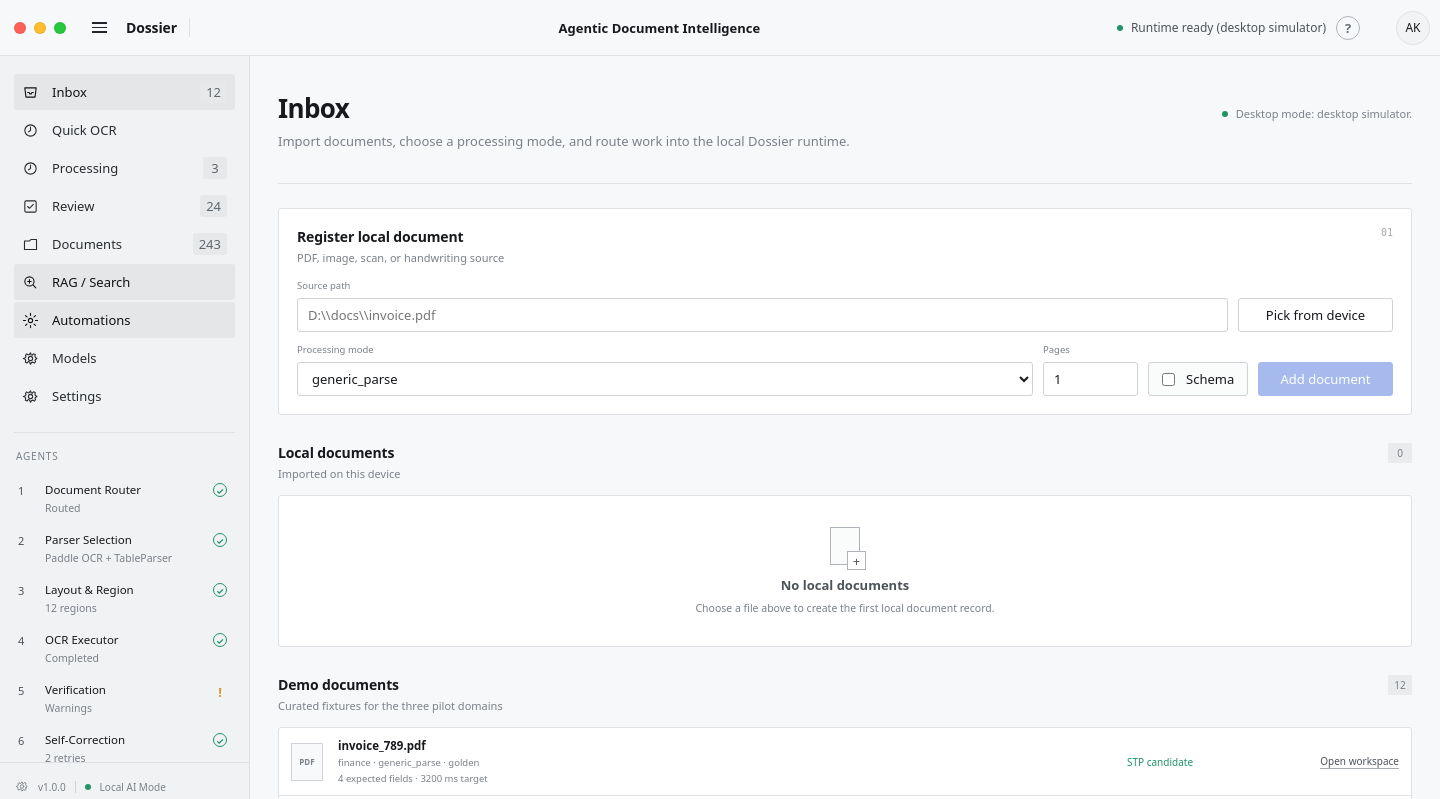
Test case: pilot flows › shows registered local documents in the All Documents browser
Expected: the text "Runtime ready (desktop simulator)" is shown, 1117,19 -> 1336,36
Type "D:\\docs\\all-docs-demo.pdf" into the field labelled "Source path" at (762, 315), box 297,298 -> 1228,332
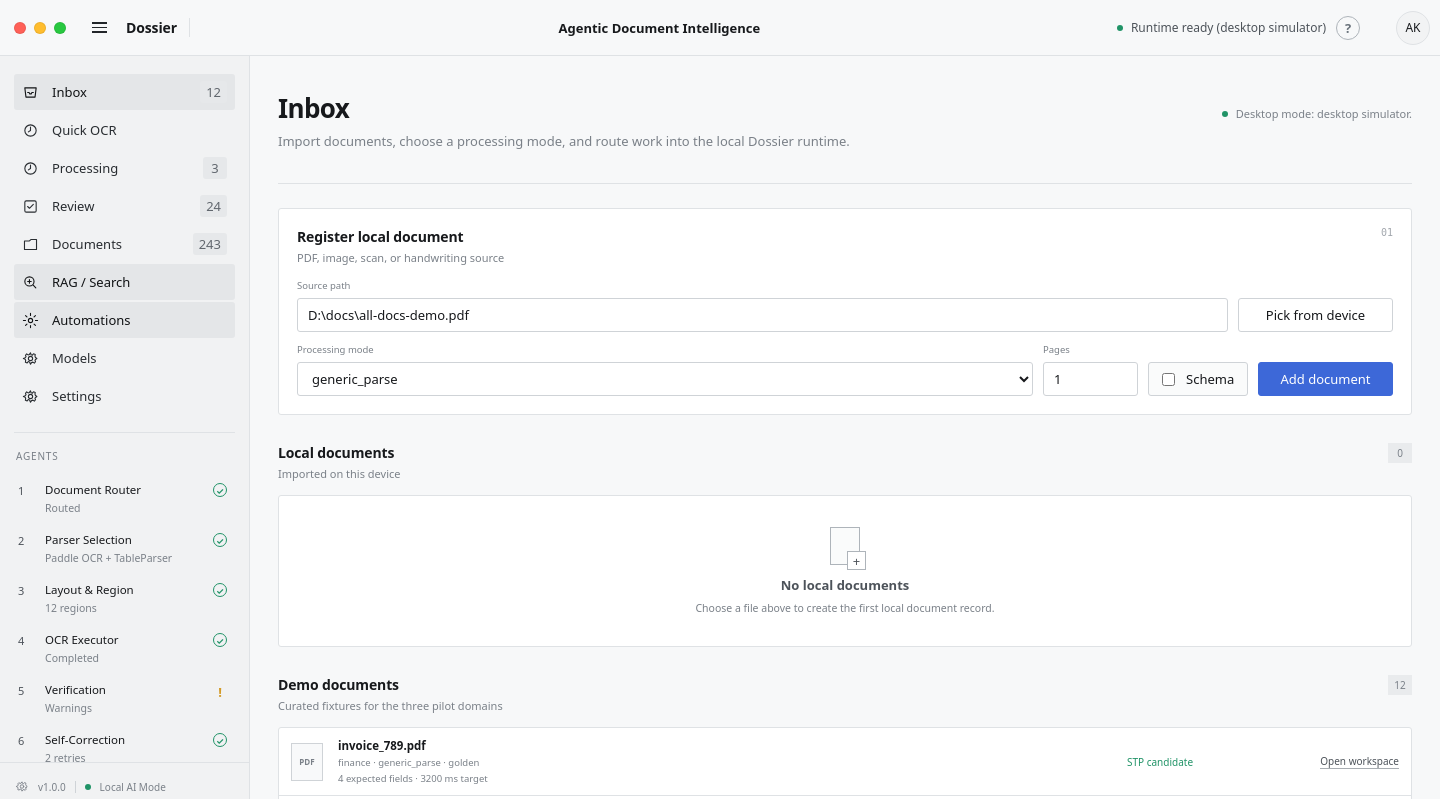
Click the button "Add document" at (1326, 379), box 1258,362 -> 1393,396
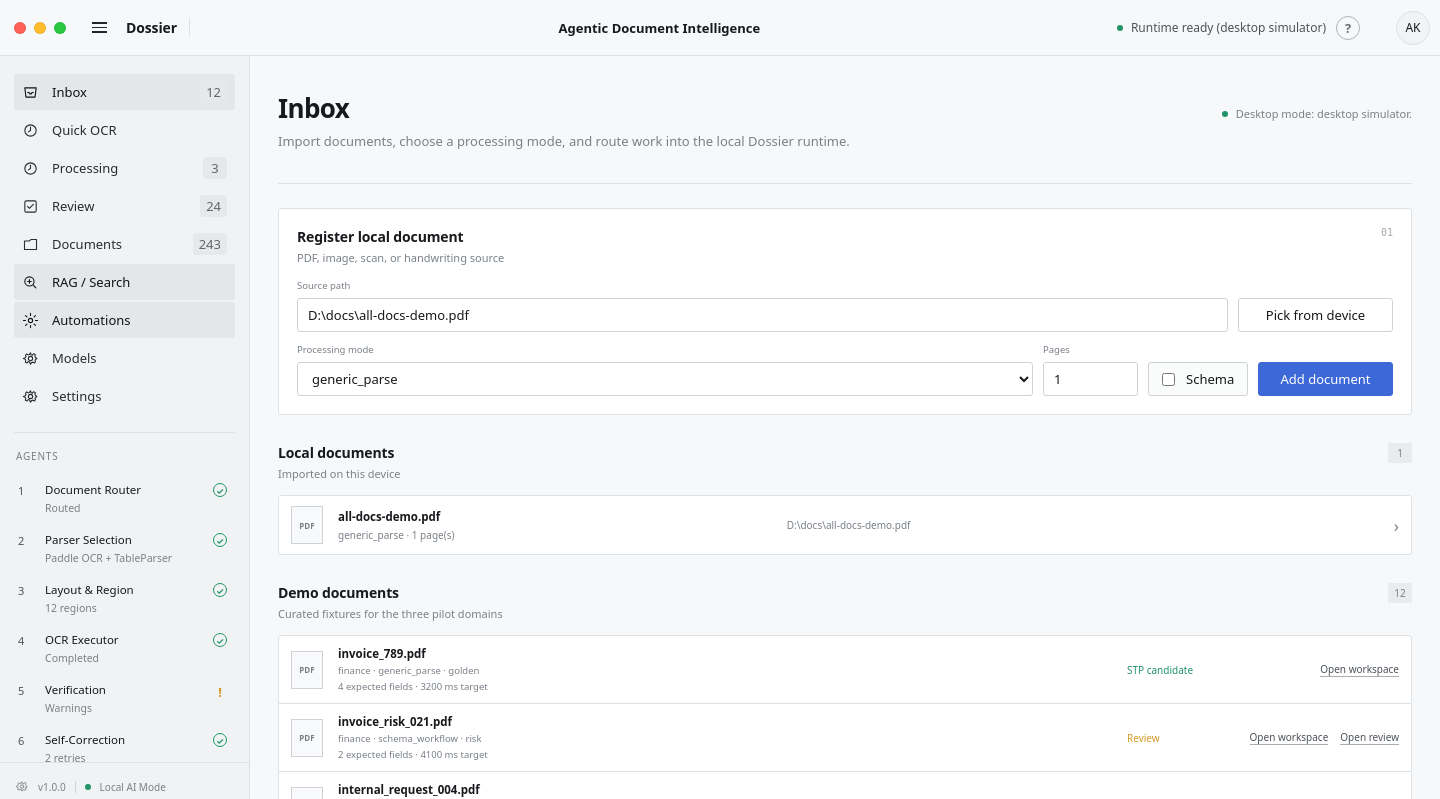
Expected: the text "all-docs-demo.pdf" is shown, 338,508 -> 440,524
Click the text "Documents" at (87, 244), box 52,235 -> 122,253
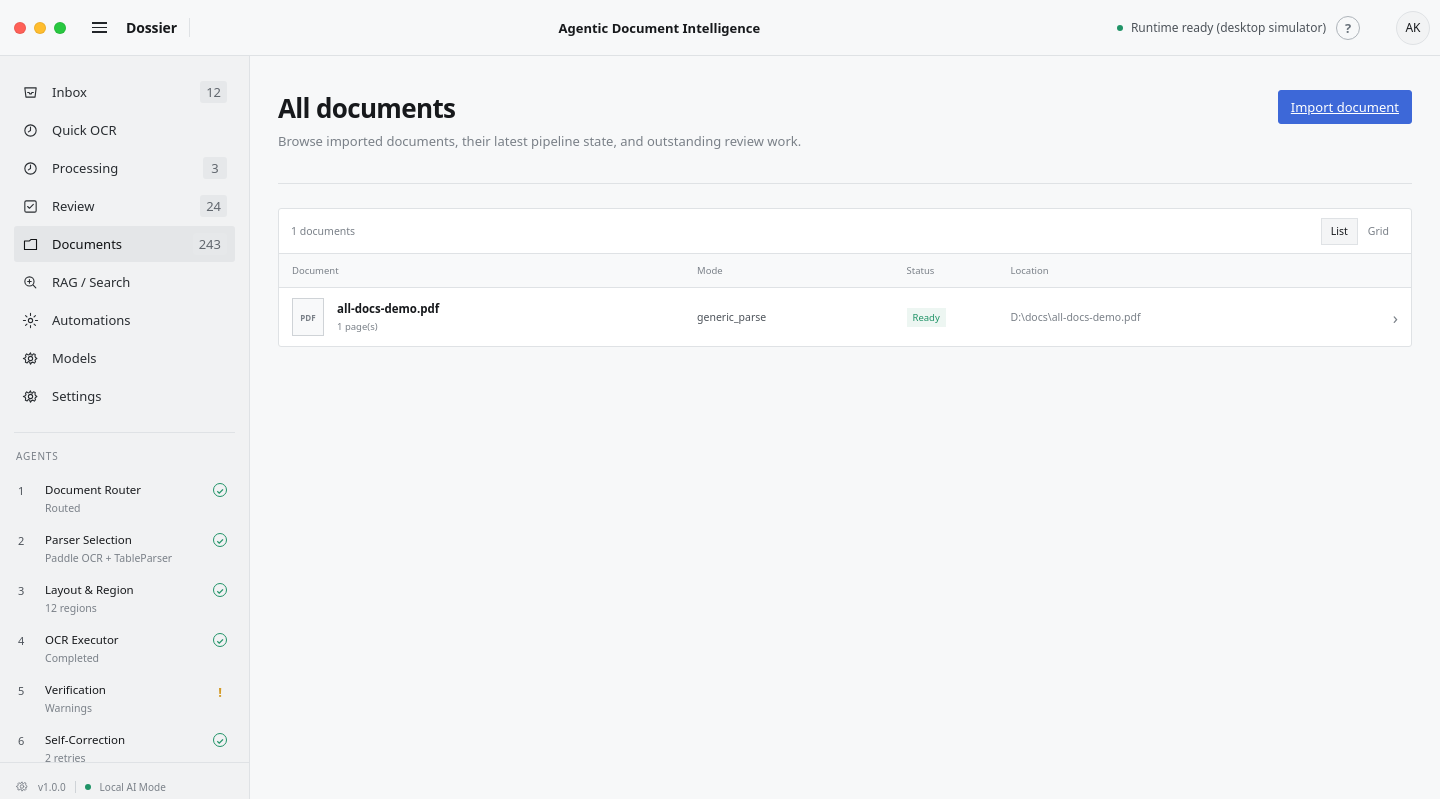
Expected: the text "all-docs-demo.pdf" is shown, 337,301 -> 439,316
Expected: the heading "All documents" is shown, 278,90 -> 455,126
